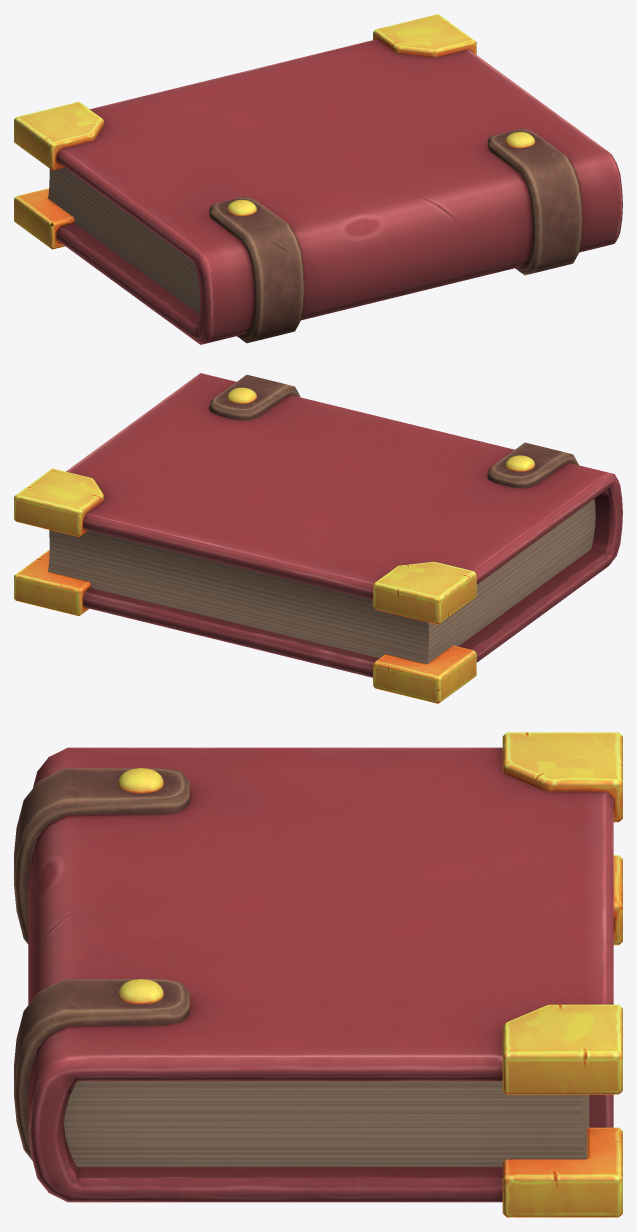
The model's file is SM_Book_Red.fbx.
3 views of the same model, one above another, from view 1: azimuth 30°, elevation 25°; view 2: azimuth 150°, elevation 25°; view 3: azimuth 270°, elevation 25° (orthographic). The views are drawn at different scales.
Visible parts, largest first — view 1: SM_Book_Red_LOD0; view 2: SM_Book_Red_LOD0; view 3: SM_Book_Red_LOD0.
Boxes of the visible parts, x1,y1,x2,y2 form: SM_Book_Red_LOD0: [14, 14, 622, 344]; SM_Book_Red_LOD0: [14, 373, 622, 703]; SM_Book_Red_LOD0: [14, 732, 622, 1217].
Size of the model in its own units: 32.29 by 25.69 by 9.12.
1 material, 1 textured.
